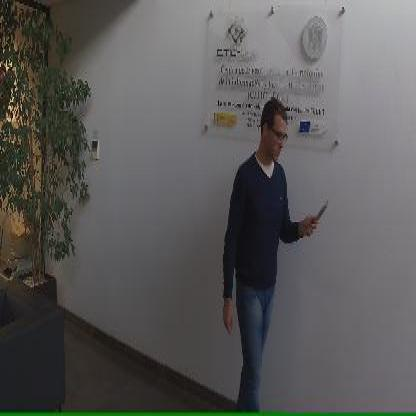knife: (306, 192, 330, 231)
